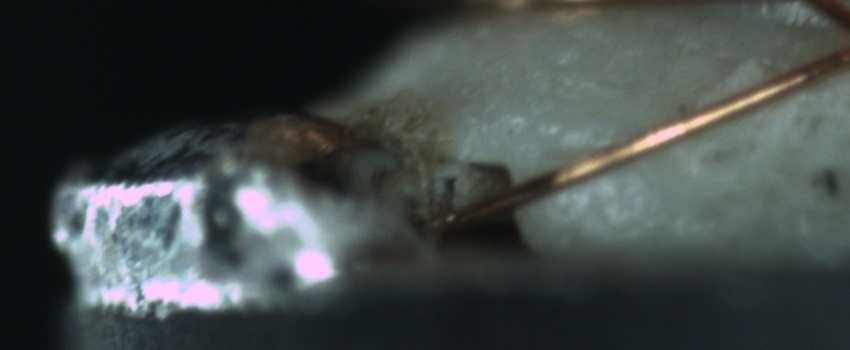CL: (799, 6, 850, 82)
